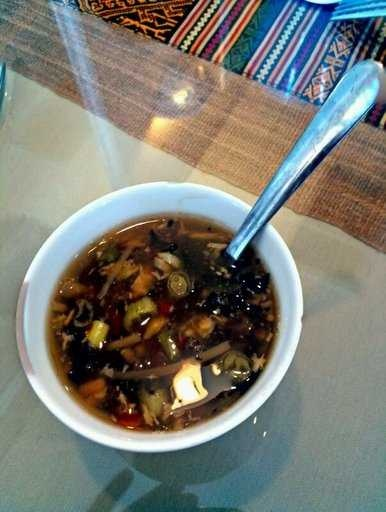soup: (41, 192, 268, 412)
